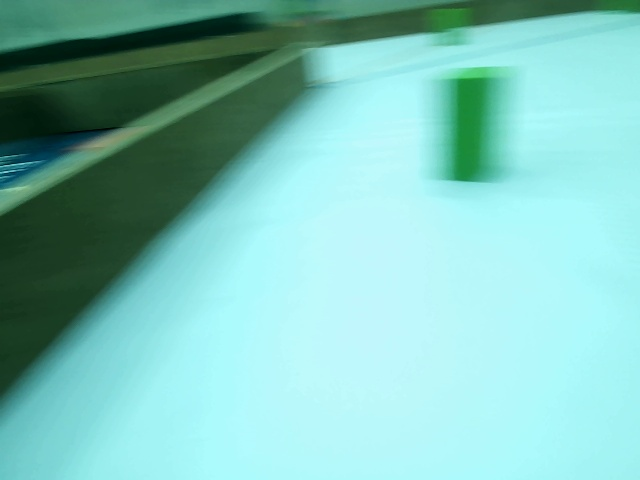green: (437, 68, 508, 187)
